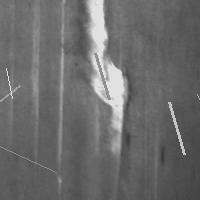scratches: (81, 1, 129, 159), (0, 126, 61, 177), (27, 1, 43, 163), (55, 1, 67, 164), (164, 97, 189, 159), (0, 81, 24, 139), (90, 48, 114, 104), (1, 63, 17, 103), (192, 89, 200, 135)
